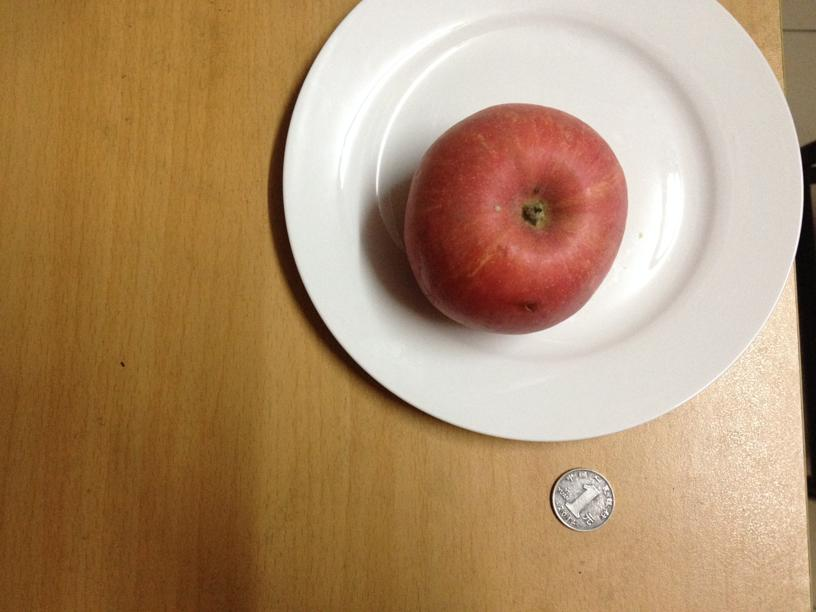apple: (406, 98, 629, 334)
coin: (550, 466, 615, 531)
